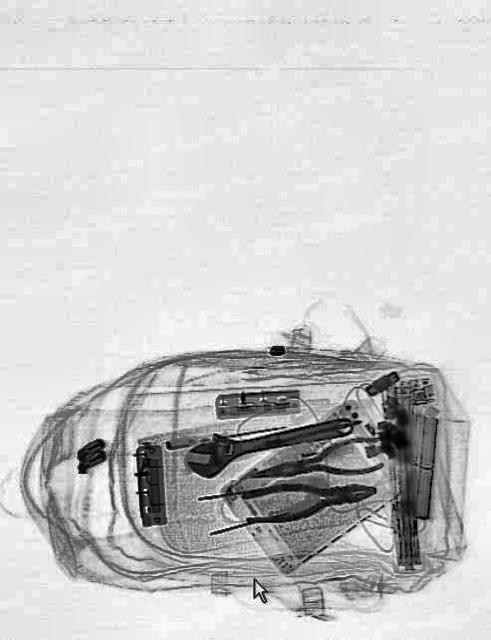Pliers: (246, 431, 386, 494), (238, 469, 377, 527)
Wrench: (183, 400, 357, 482)
